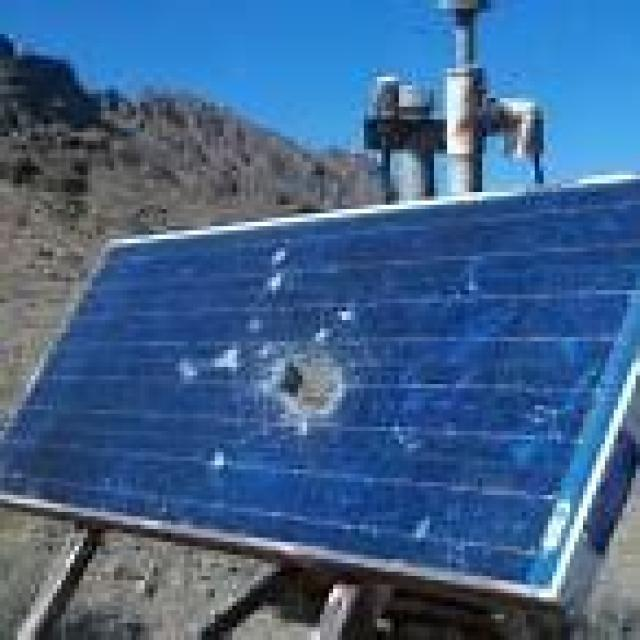faulty: (0, 176, 640, 582)
